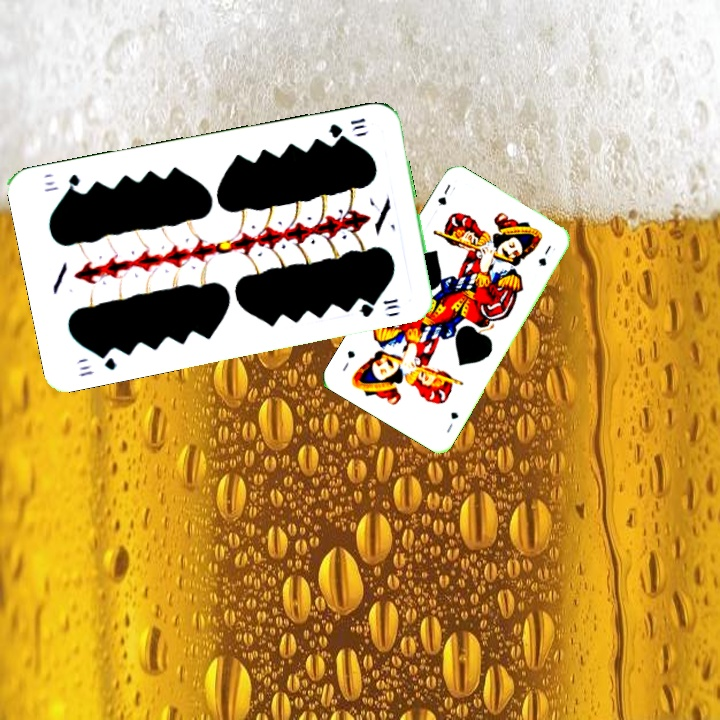G10: (74, 348, 119, 379), (325, 114, 369, 141)
GU: (433, 180, 458, 209), (442, 408, 461, 435)
